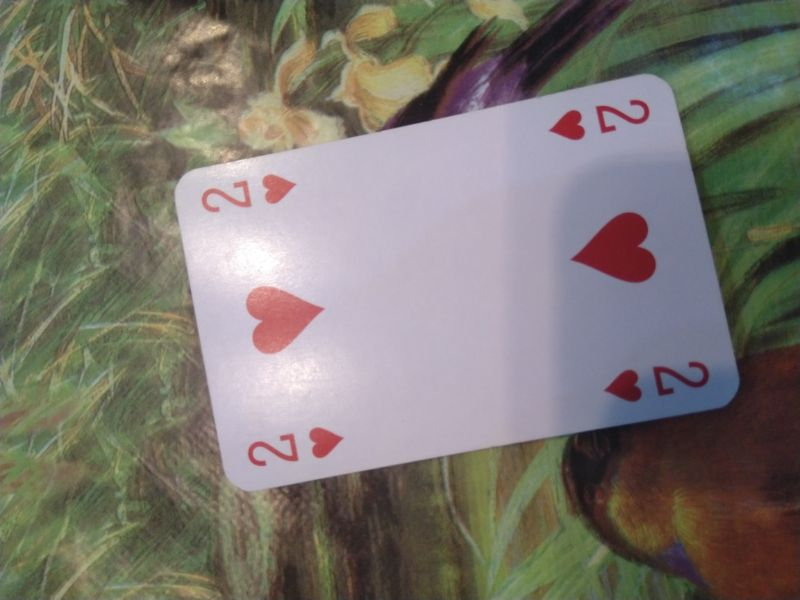2h: (600, 352, 712, 410), (198, 166, 303, 216), (544, 93, 651, 142), (243, 424, 347, 468)
